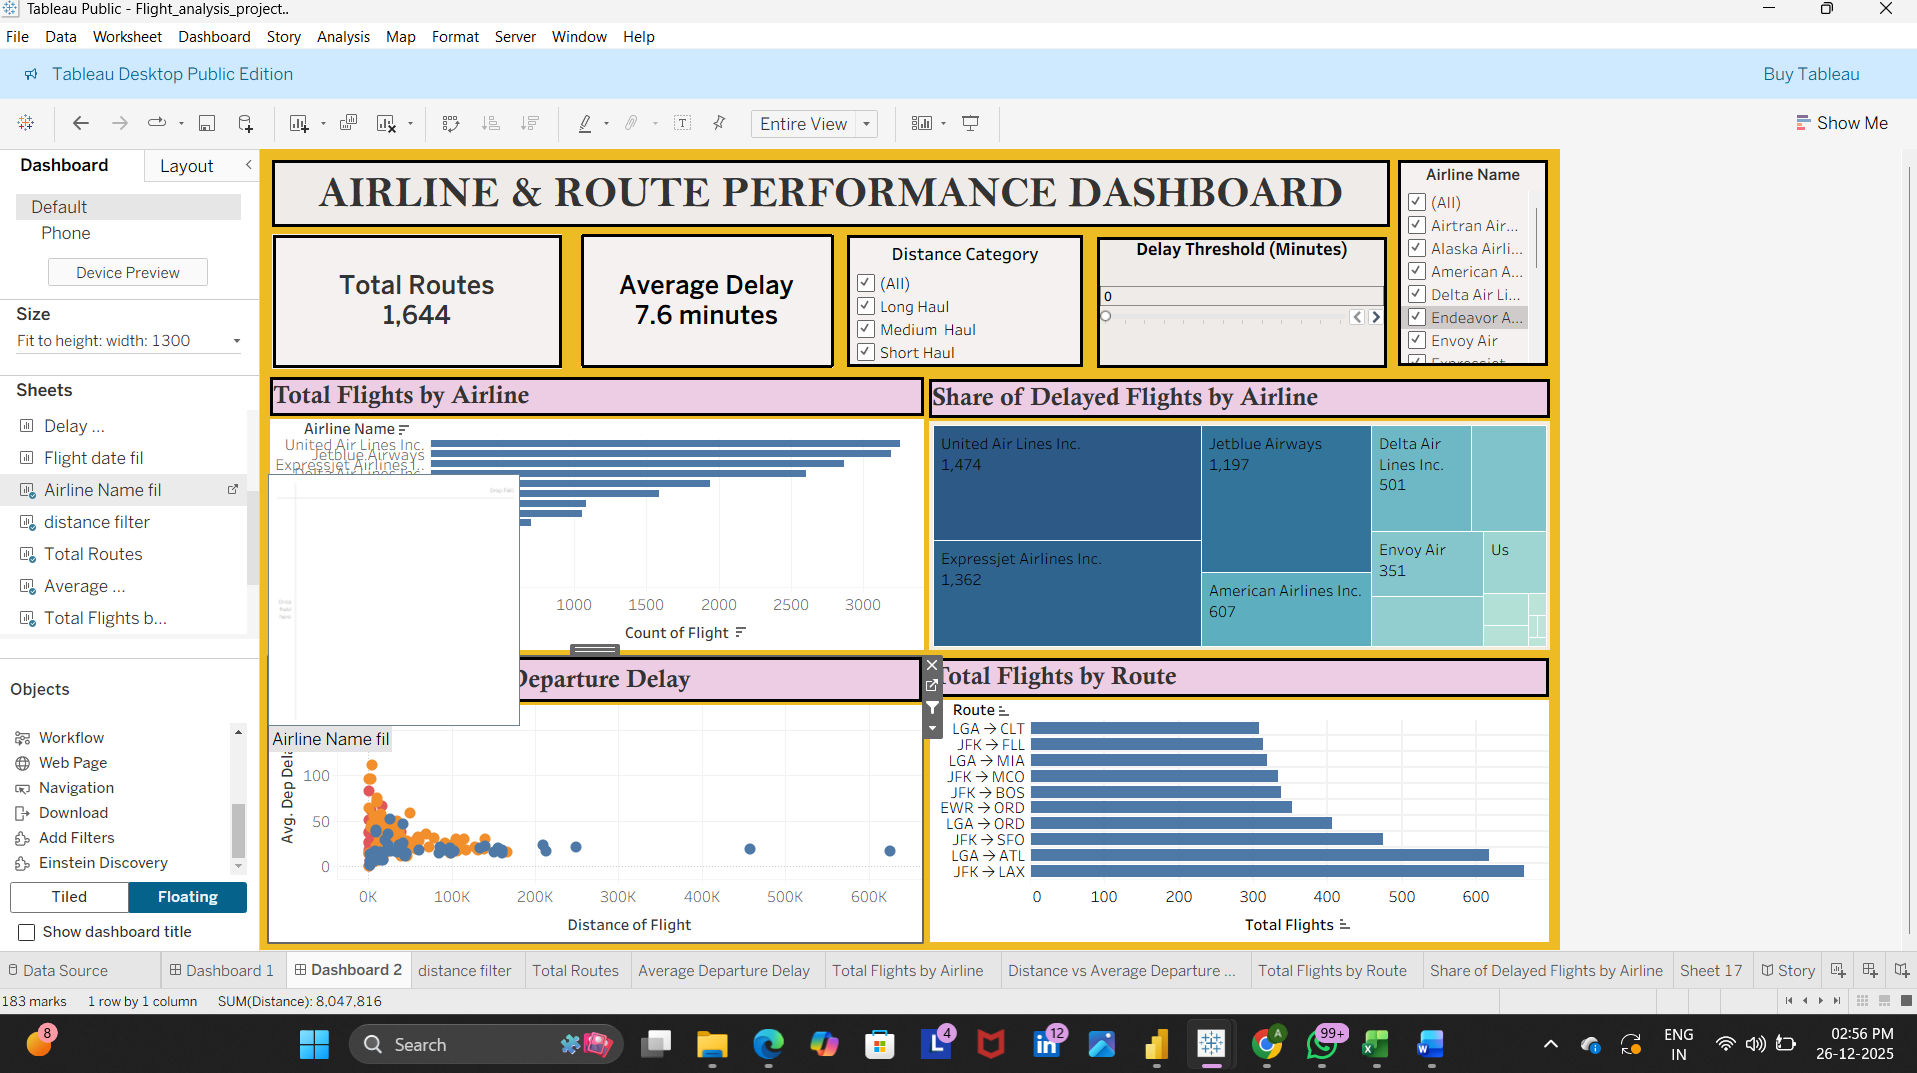

What the dashboard file says about the page in this screenshot:
{"tool":"tableau","page":{"name":"Dashboard 2","canvas":[1000,1000],"units":"permille","ordinal":1},"visuals":[{"type":"title","box":[6.2,10,987.7,93.5]},{"type":"worksheet","title":"distance filter","mark":"Automatic","box":[47.7,98.8,333.1,310.5]},{"type":"worksheet","title":"Total Routes","mark":"Automatic","box":[9.2,107.2,276.2,168.3]},{"type":"worksheet","title":"Average Departure Delay","mark":"Automatic","box":[291.5,109.7,256.1,167.1]},{"type":"filter","title":"distance filter","param":"[federated.08lciuz1svrqzo193fpnf0v0h9go].[none:distance_category:nk]","box":[555.4,111,174.6,164.6]},{"type":"parameter","param":"[Parameters].[Parameter 1]","box":[736.9,111,254.6,163.3]},{"type":"worksheet","title":"Total Flights by Airline","mark":"Bar","rows":["airline_name"],"cols":["flight"],"box":[7.7,285.5,503.1,340.4]},{"type":"worksheet","title":"Share of Delayed Flights by Airline","mark":"Automatic","box":[514.6,288,477.7,337.9]},{"type":"worksheet","title":"Distance vs Average Departure Delay","mark":"Circle","rows":["dep_delay"],"cols":["distance"],"box":[6.9,634.7,502.3,355.4]},{"type":"worksheet","title":"Total Flights by Route","mark":"Automatic","rows":["Calculation_1021741437202434"],"cols":["flight"],"box":[515.4,635.9,476.2,354.1]}]}

Visuals, with their boxes on the dashboard's canvas, which has no fixed pixel size, in thousandths of its width and height (x1, y1, x2, y2). These are canvas units, not pixel positions in the 1917x1073 screenshot, which may show the page scaled, cropped or inside an application window:
title: region(6, 10, 994, 104)
"distance filter" worksheet: region(48, 99, 381, 409)
"Total Routes" worksheet: region(9, 107, 285, 276)
"Average Departure Delay" worksheet: region(292, 110, 548, 277)
"distance filter" filter: region(555, 111, 730, 276)
parameter: region(737, 111, 992, 274)
"Total Flights by Airline" worksheet (Bar marks): region(8, 286, 511, 626)
"Share of Delayed Flights by Airline" worksheet: region(515, 288, 992, 626)
"Distance vs Average Departure Delay" worksheet (Circle marks): region(7, 635, 509, 990)
"Total Flights by Route" worksheet: region(515, 636, 992, 990)
